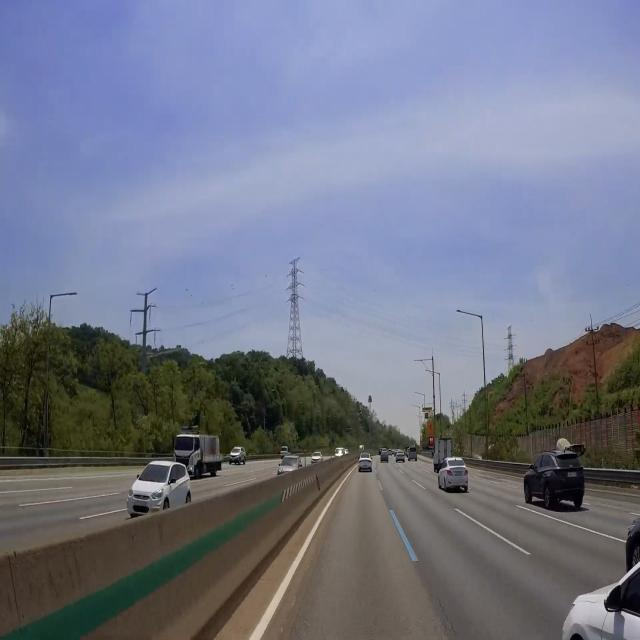car: (133, 497, 148, 510), (566, 469, 579, 479), (453, 467, 463, 477), (361, 464, 368, 469)
